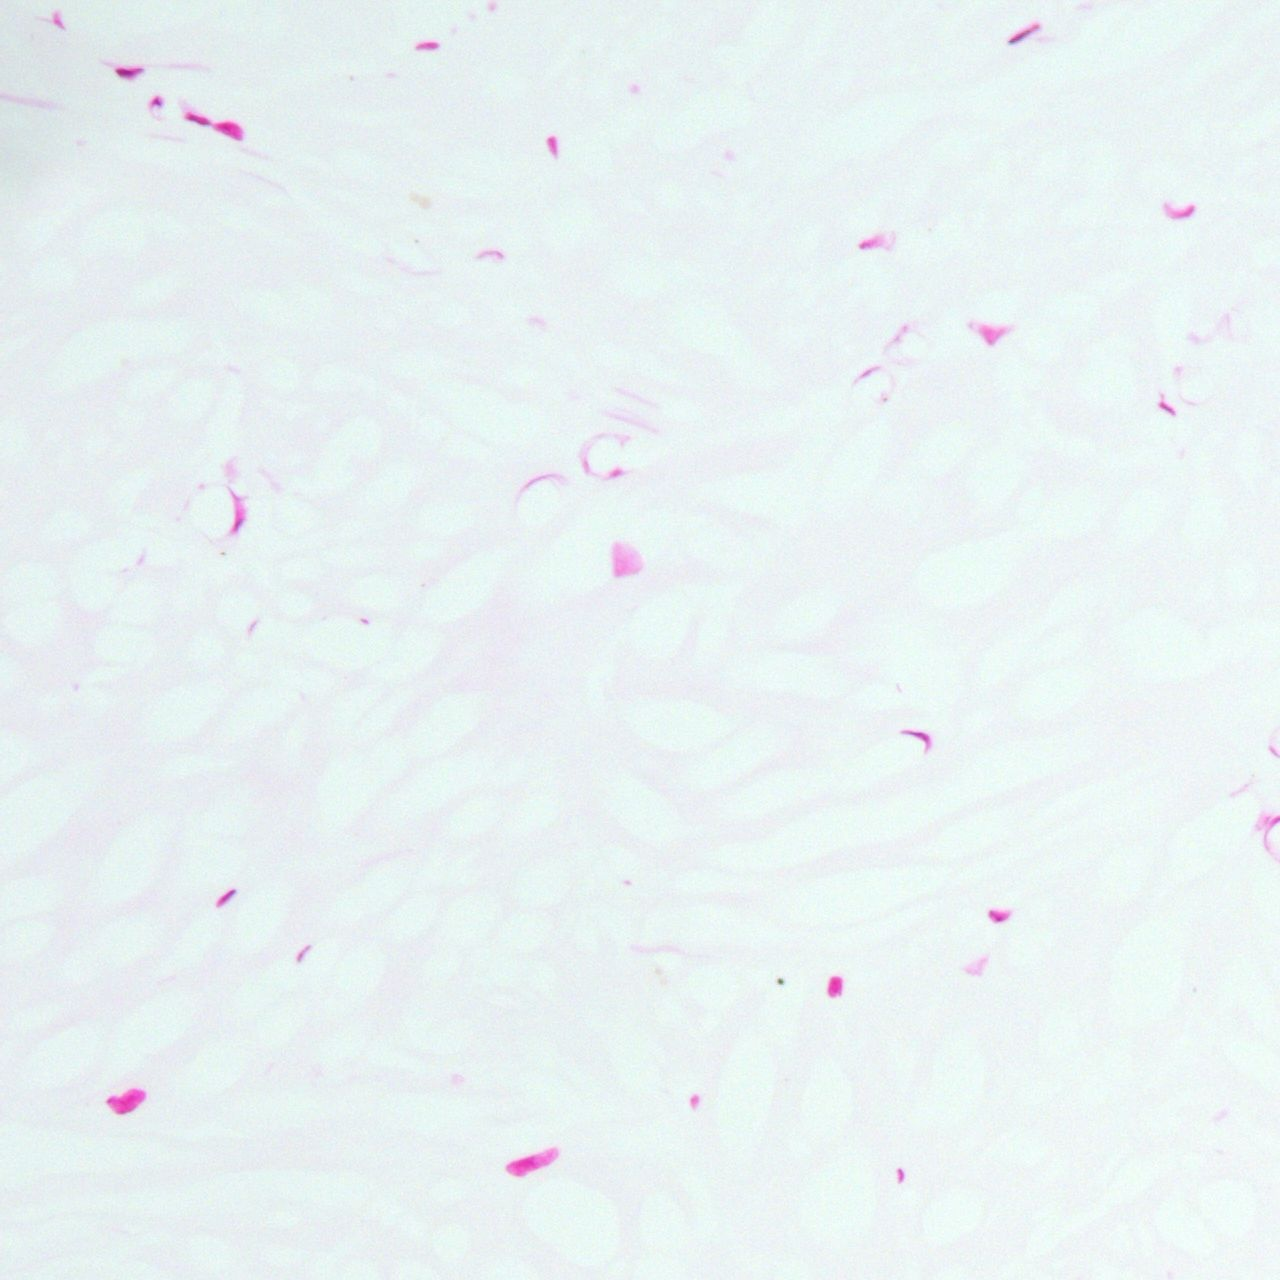dust: (776, 978, 783, 983)
nucleus-FG: (855, 227, 894, 260), (1005, 18, 1043, 48), (896, 720, 938, 747), (210, 113, 248, 142), (230, 490, 246, 533), (182, 108, 213, 129), (212, 884, 238, 910), (1160, 202, 1197, 219), (1156, 397, 1178, 418), (987, 908, 1012, 922), (115, 68, 143, 80), (414, 40, 440, 50), (546, 135, 559, 155)
